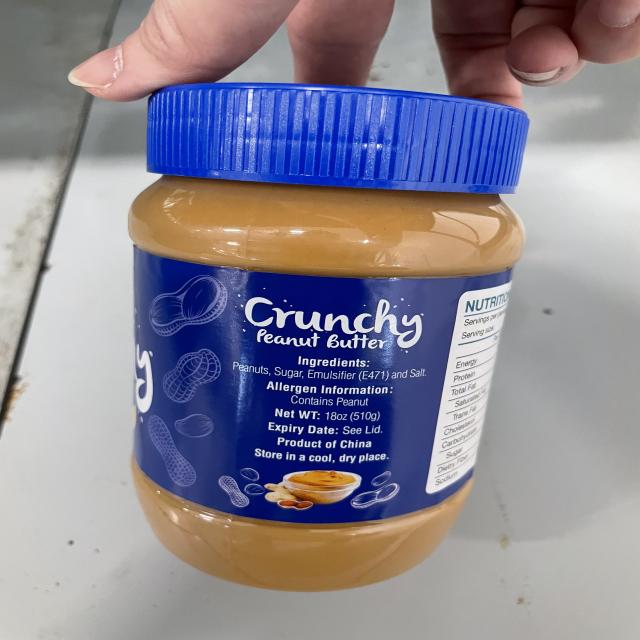object_name: (144, 87, 511, 571)
